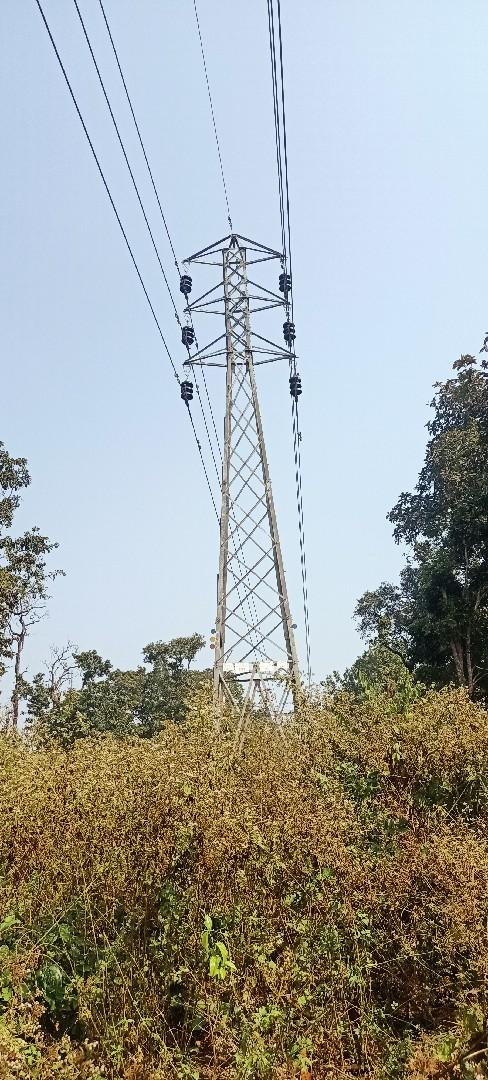GSM Antenna: (165, 225, 309, 660)
